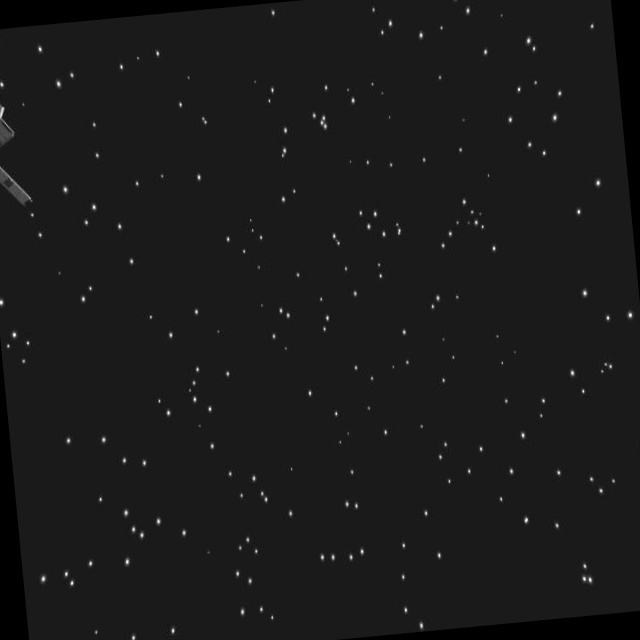satellite: (0, 82, 35, 219)
